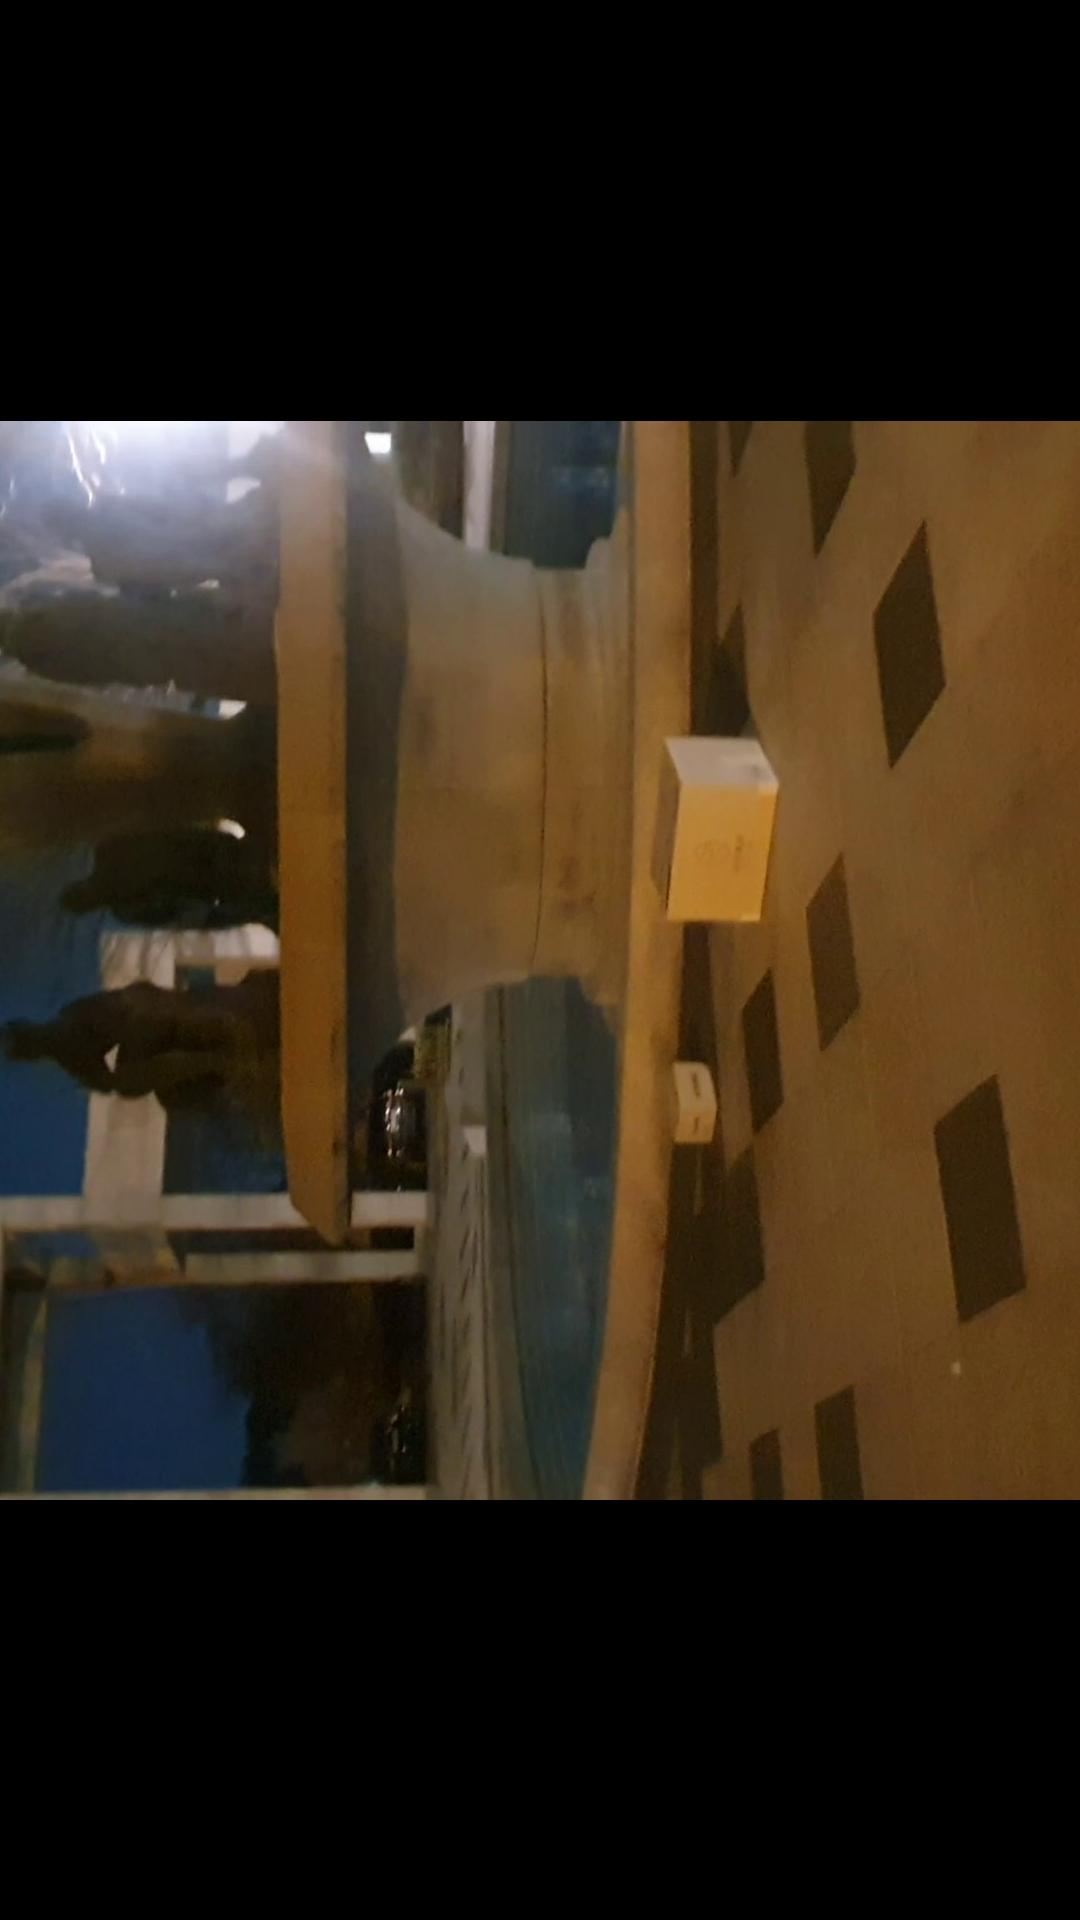Box: (647, 736, 789, 932), (655, 1038, 725, 1153)
